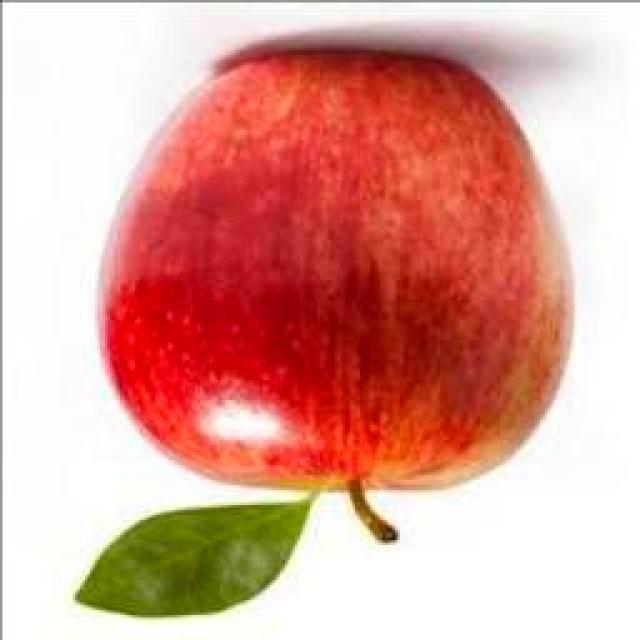Apple: (104, 45, 568, 542)
